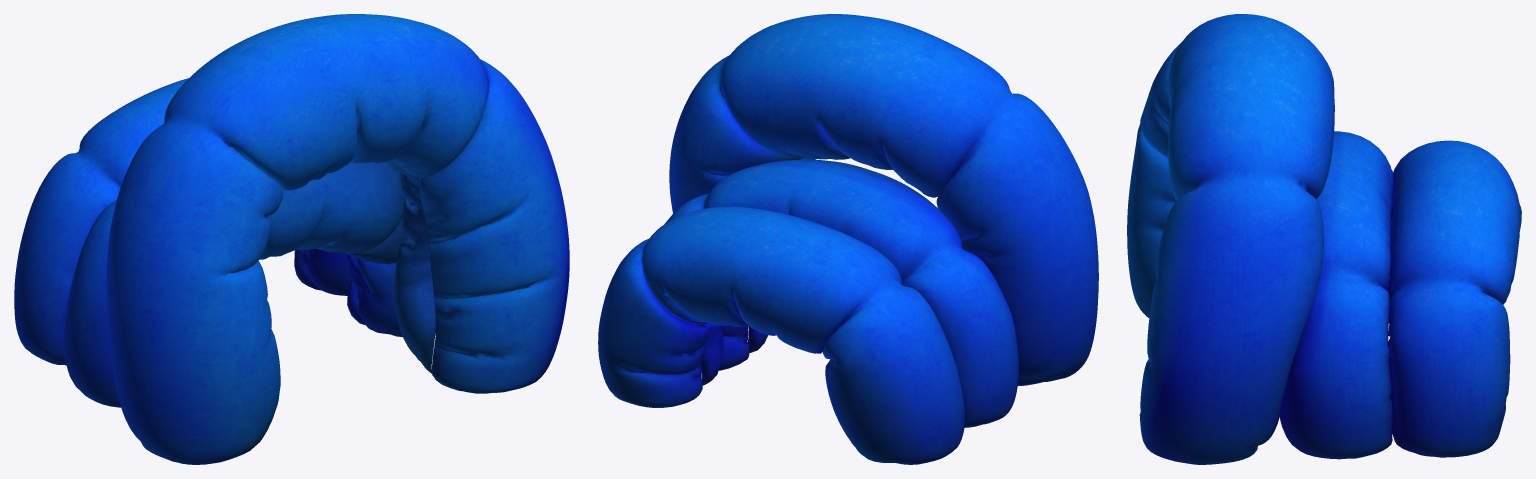
File: furniture.gltf
3 renders of one model, left to right at view 1: azimuth 30°, elevation 25°; view 2: azimuth 150°, elevation 25°; view 3: azimuth 270°, elevation 25°, orthographic. The views are drawn at different scales.
Parts seen in each view (by area): view 1: Retopo_Default; view 2: Retopo_Default; view 3: Retopo_Default.
Boxes of the visible parts, <box> form: Retopo_Default: <box>14,14,569,464</box>; Retopo_Default: <box>598,14,1098,464</box>; Retopo_Default: <box>1127,14,1521,464</box>.
Size of the model in its own units: 1459 by 1125 by 1190.
1 material, 1 textured.
